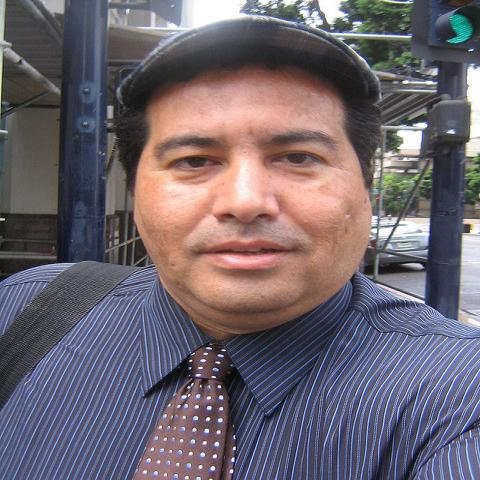car: (359, 215, 430, 274)
